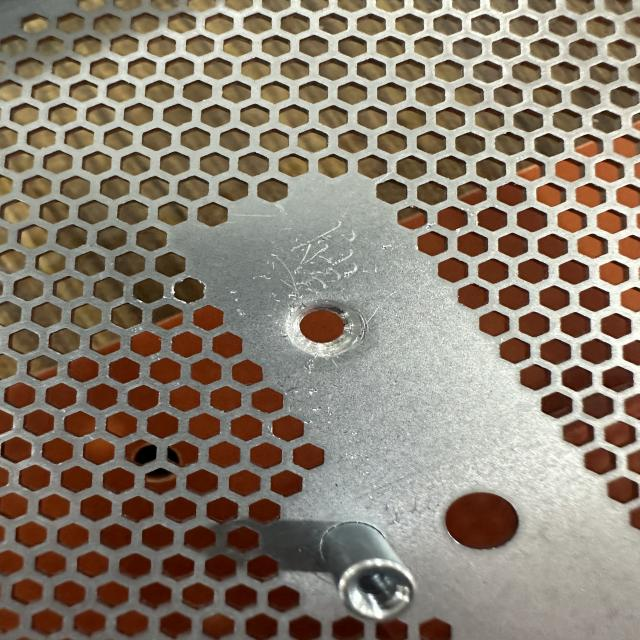Missing screw: (271, 291, 381, 364)
